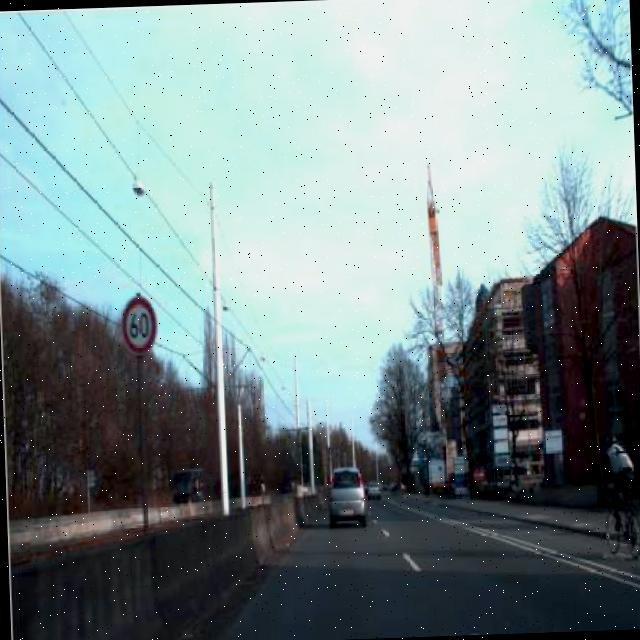Ograniczenie predkosci do 60: (119, 292, 158, 358)
